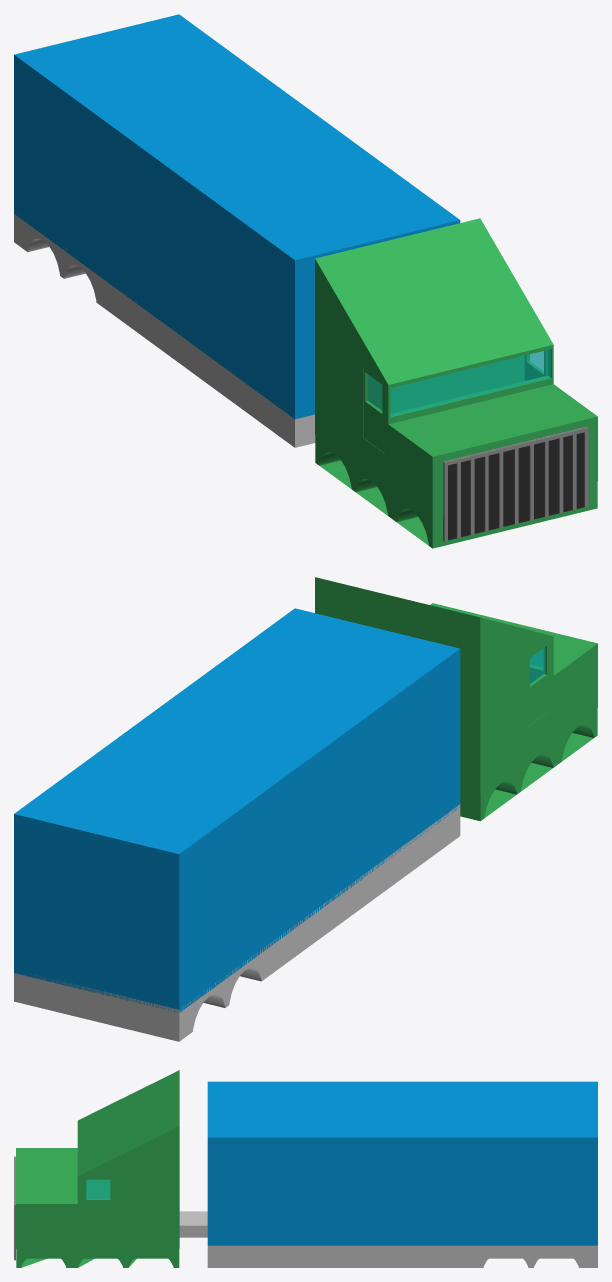
File: Big-Rig-Door.fbx
3 renders of one model, top to bottom at view 1: azimuth 30°, elevation 25°; view 2: azimuth 150°, elevation 25°; view 3: azimuth 270°, elevation 25°, orthographic. The views are drawn at different scales.
Parts seen in each view (by area): view 1: pCube35, pasted__pCube65, pPlane2, pCube47, pCube46, pasted__pCube64, pCube66, pasted__pCube78; view 2: pCube35, pasted__pCube65, pCube47, pCube46, pCube66; view 3: pCube35, pasted__pCube65, pCube47, pCube46, polySurface3, pCube36, polySurface4.
Part boxes in pixels (box(x1,y1,x2,y2)): pCube35: box(14, 14, 460, 419); pasted__pCube65: box(315, 218, 597, 520); pPlane2: box(448, 427, 586, 540); pCube47: box(14, 214, 315, 447); pCube46: box(315, 431, 597, 548); pasted__pCube64: box(390, 349, 550, 416); pCube66: box(363, 368, 384, 452); pasted__pCube78: box(445, 427, 586, 465); pCube35: box(14, 608, 460, 1012); pasted__pCube65: box(315, 577, 597, 793); pCube47: box(14, 804, 460, 1041); pCube46: box(460, 703, 597, 821); pCube66: box(528, 641, 549, 725); pCube35: box(207, 1081, 597, 1245); pasted__pCube65: box(16, 1070, 179, 1248); pCube47: box(207, 1245, 597, 1267); pCube46: box(16, 1245, 179, 1267); polySurface3: box(83, 1178, 112, 1226); pCube36: box(179, 1211, 207, 1237); polySurface4: box(86, 1179, 110, 1199).
Size of the model in its own units: 4.42 by 5.21 by 19.45.
